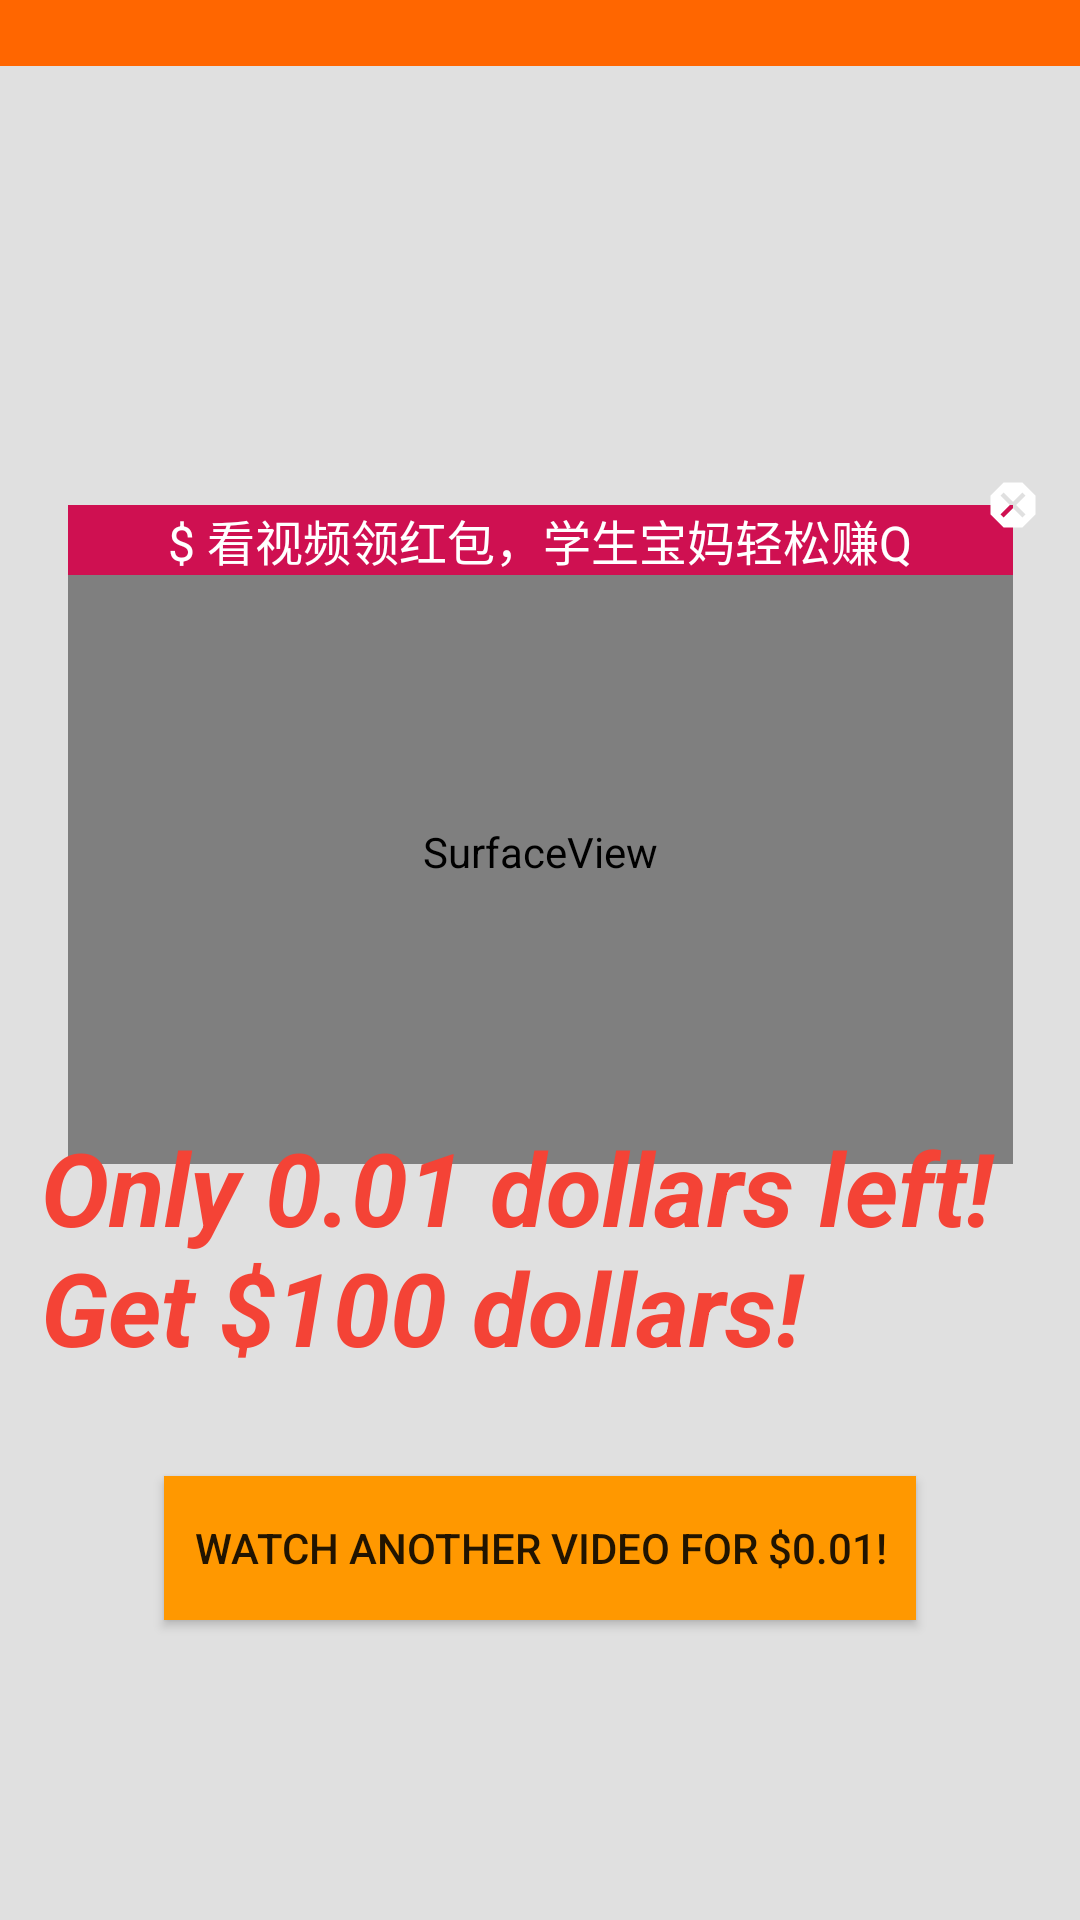

Where icons sit on this 1080px x 1920px app screen, as (x1, y1, x2, y2):
close text on video: (983, 483, 1035, 535)
